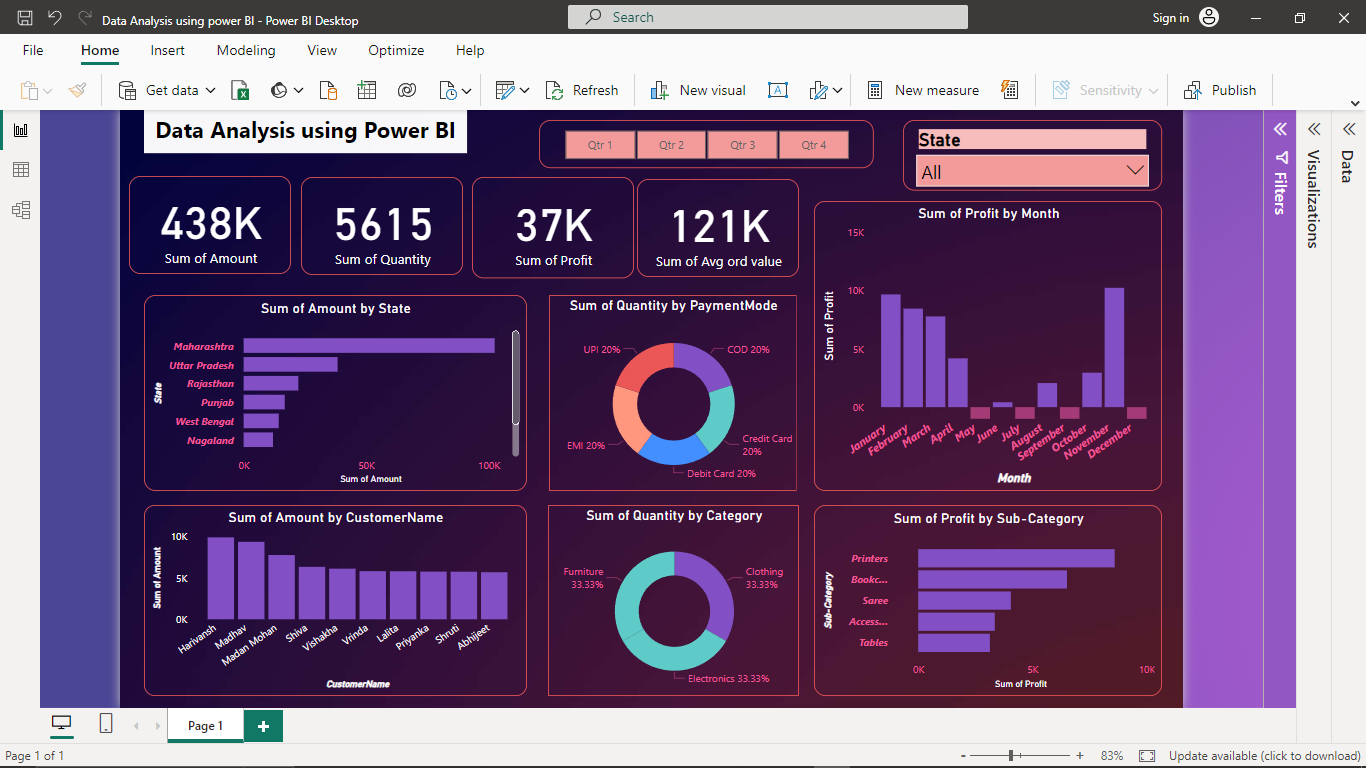

What the dashboard file says about the page in this screenshot:
{"tool":"powerbi","page":{"name":"Page 1","canvas":[1280,720],"ordinal":0},"visuals":[{"type":"textbox","box":[28.9,0,389.1,52.2],"z":0},{"type":"columnChart","fields":{"Category":["Orders.Order Date.Variation.Date Hierarchy.Month"],"Y":["Details.Profit"]},"box":[835.9,110,419.3,349.2],"z":1000},{"type":"barChart","fields":{"Category":["Details.Sub-Category"],"Y":["Details.Profit"]},"box":[835.9,475.7,419.3,229.6],"z":2000},{"type":"donutChart","fields":{"Category":["Details.Category"],"Y":["Details (2).Quantity"]},"box":[515.6,475.7,302.5,229.6],"z":3000},{"type":"donutChart","fields":{"Category":["Details.PaymentMode"],"Y":["Details (2).Quantity"]},"box":[516.9,222.7,298.3,236.5],"z":4000},{"type":"card","fields":{"Values":["Details.Amount"]},"box":[11,79.7,195.2,118.2],"z":5000},{"type":"card","fields":{"Values":["Details (2).Quantity"]},"box":[418,82.5,195.2,118.2],"z":6000},{"type":"card","fields":{"Values":["Details.Profit"]},"box":[206.2,79.7,195.2,121],"z":7000},{"type":"card","fields":{"Values":["Details (2).Avg ord value"]},"box":[622.8,82.5,195.2,118.2],"z":8000},{"type":"clusteredBarChart","fields":{"Category":["Orders.State"],"Y":["Details (2).Amount"]},"box":[28.9,222.7,460.6,236.5],"z":9000},{"type":"columnChart","fields":{"Category":["Orders.CustomerName"],"Y":["Details (2).Amount"]},"box":[28.9,475.7,460.6,229.6],"z":10000},{"type":"slicer","fields":{"Values":["Orders.State"]},"box":[943.2,12.4,312.1,85.2],"z":11000},{"type":"slicer","fields":{"Values":["Orders.Order Date.Variation.Date Hierarchy.Quarter"]},"box":[504.6,12.4,402.8,57.7],"z":12000}]}

Visuals, with their boxes on the page's 1280x720 design canvas (x1, y1, x2, y2). These are canvas units, not pixel positions in the 1366x768 screenshot, which may show the page scaled, cropped or inside an application window:
textbox: <region>29, 0, 418, 52</region>
columnChart - Orders.Order Date.Variation.Date Hierarchy.Month x Details.Profit: <region>836, 110, 1255, 459</region>
barChart - Details.Sub-Category x Details.Profit: <region>836, 476, 1255, 705</region>
donutChart - Details.Category x Details (2).Quantity: <region>516, 476, 818, 705</region>
donutChart - Details.PaymentMode x Details (2).Quantity: <region>517, 223, 815, 459</region>
card - Details.Amount: <region>11, 80, 206, 198</region>
card - Details (2).Quantity: <region>418, 82, 613, 201</region>
card - Details.Profit: <region>206, 80, 401, 201</region>
card - Details (2).Avg ord value: <region>623, 82, 818, 201</region>
clusteredBarChart - Orders.State x Details (2).Amount: <region>29, 223, 490, 459</region>
columnChart - Orders.CustomerName x Details (2).Amount: <region>29, 476, 490, 705</region>
slicer - Orders.State: <region>943, 12, 1255, 98</region>
slicer - Orders.Order Date.Variation.Date Hierarchy.Quarter: <region>505, 12, 907, 70</region>
